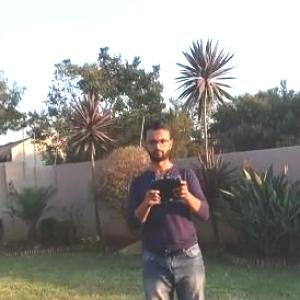follow: (118, 110, 218, 299)
